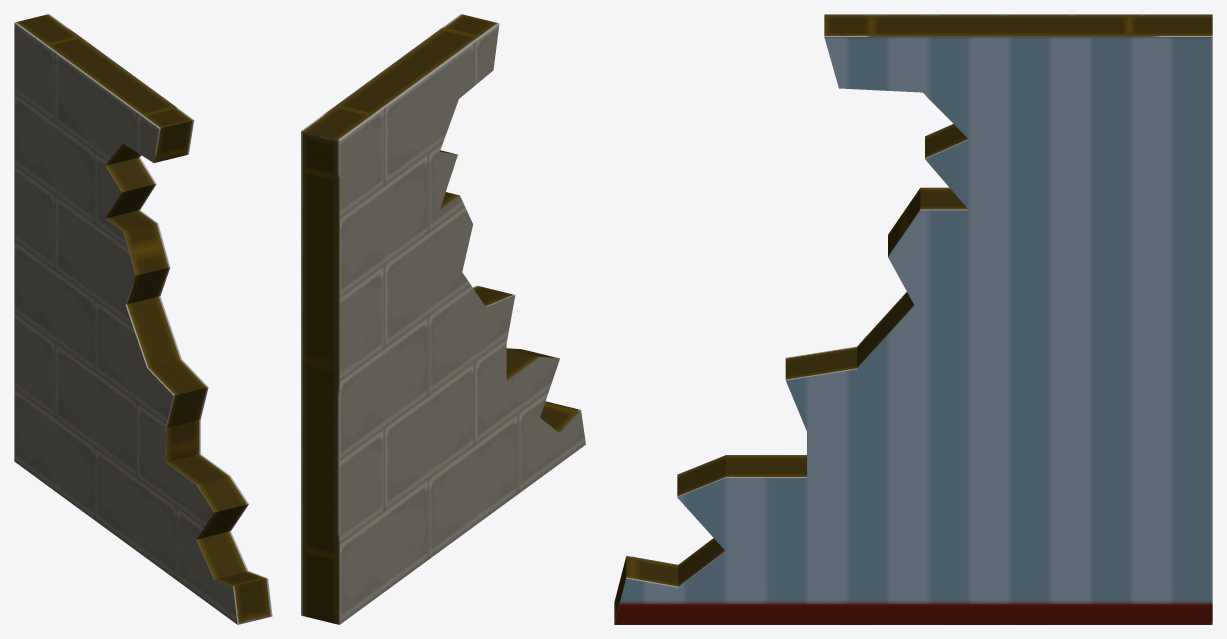
Rendered from Wall_Broken_L_11.fbx.
The picture shows the model from 3 angles, left to right: view 1: azimuth 30°, elevation 25°; view 2: azimuth 150°, elevation 25°; view 3: azimuth 270°, elevation 25°; orthographic projection. The views are drawn at different scales.
Visible parts, largest first — view 1: Wall_Broken_L_11; view 2: Wall_Broken_L_11; view 3: Wall_Broken_L_11.
Boxes of the visible parts, x1=… form: Wall_Broken_L_11: x1=14, y1=14, x2=272, y2=624; Wall_Broken_L_11: x1=301, y1=14, x2=585, y2=624; Wall_Broken_L_11: x1=614, y1=14, x2=1212, y2=624.
Bounding box in the file's own units: 50 × 600 × 553.
